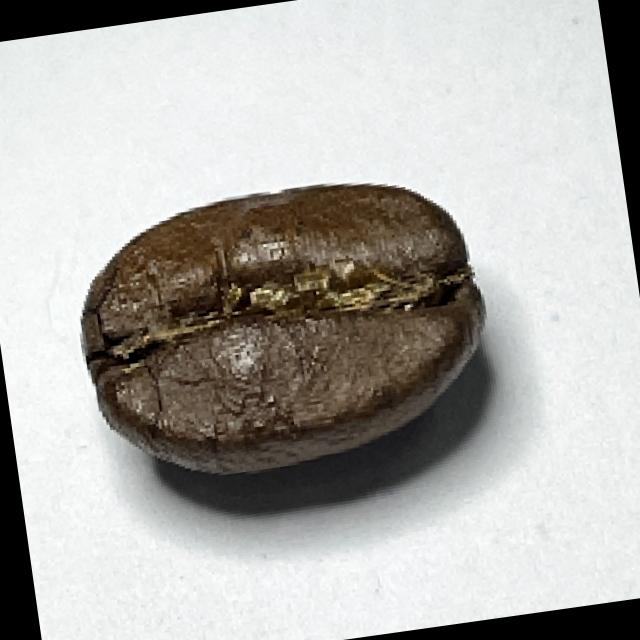bean: (61, 160, 508, 492)
